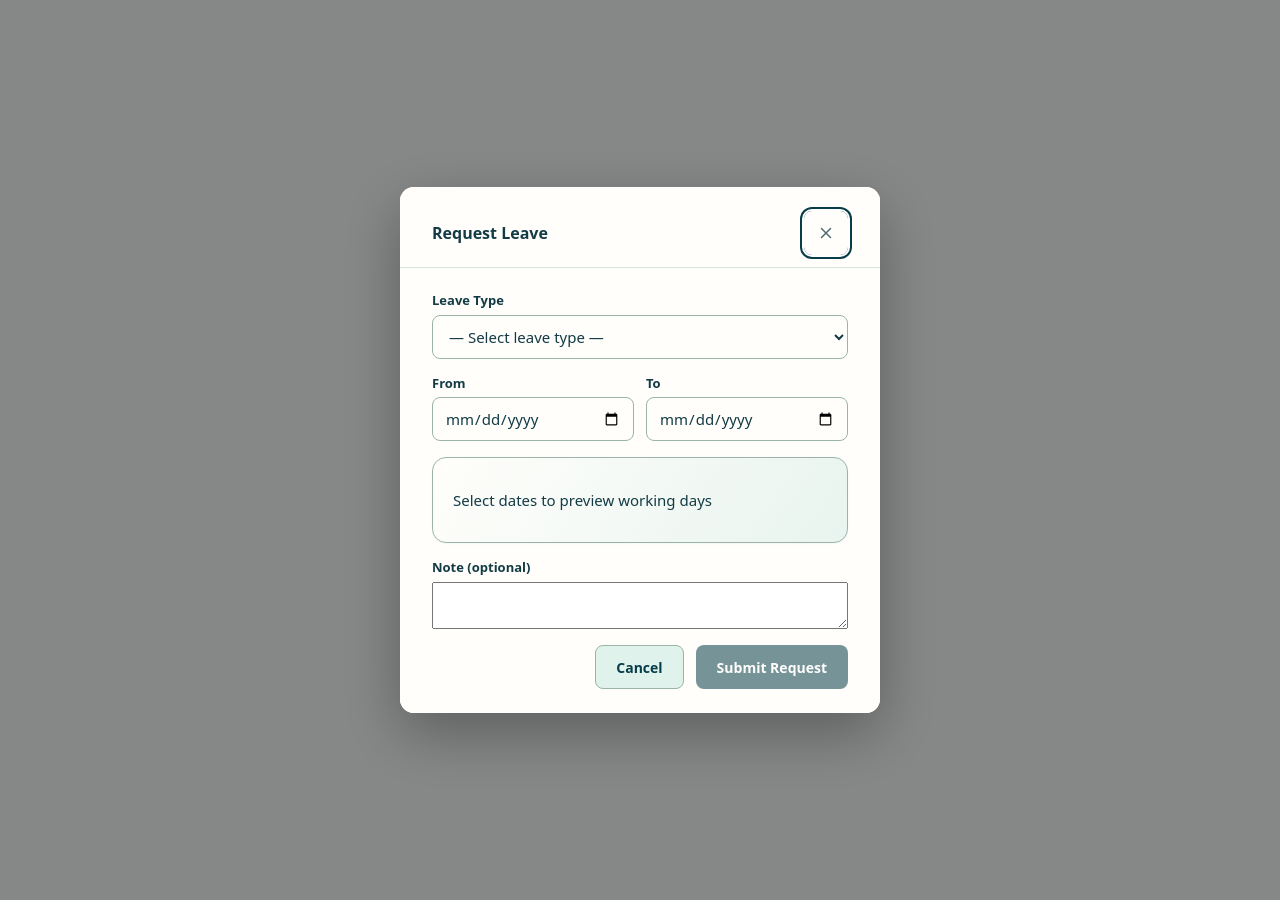
Test: RequestLeaveModal — Story 3.3 › [P1] renders charged-day preview copy and workforce group context
Select "🌴 Annual Leave" in the dropdown labelled "Leave Type" at (640, 336), box [432, 314, 848, 358]
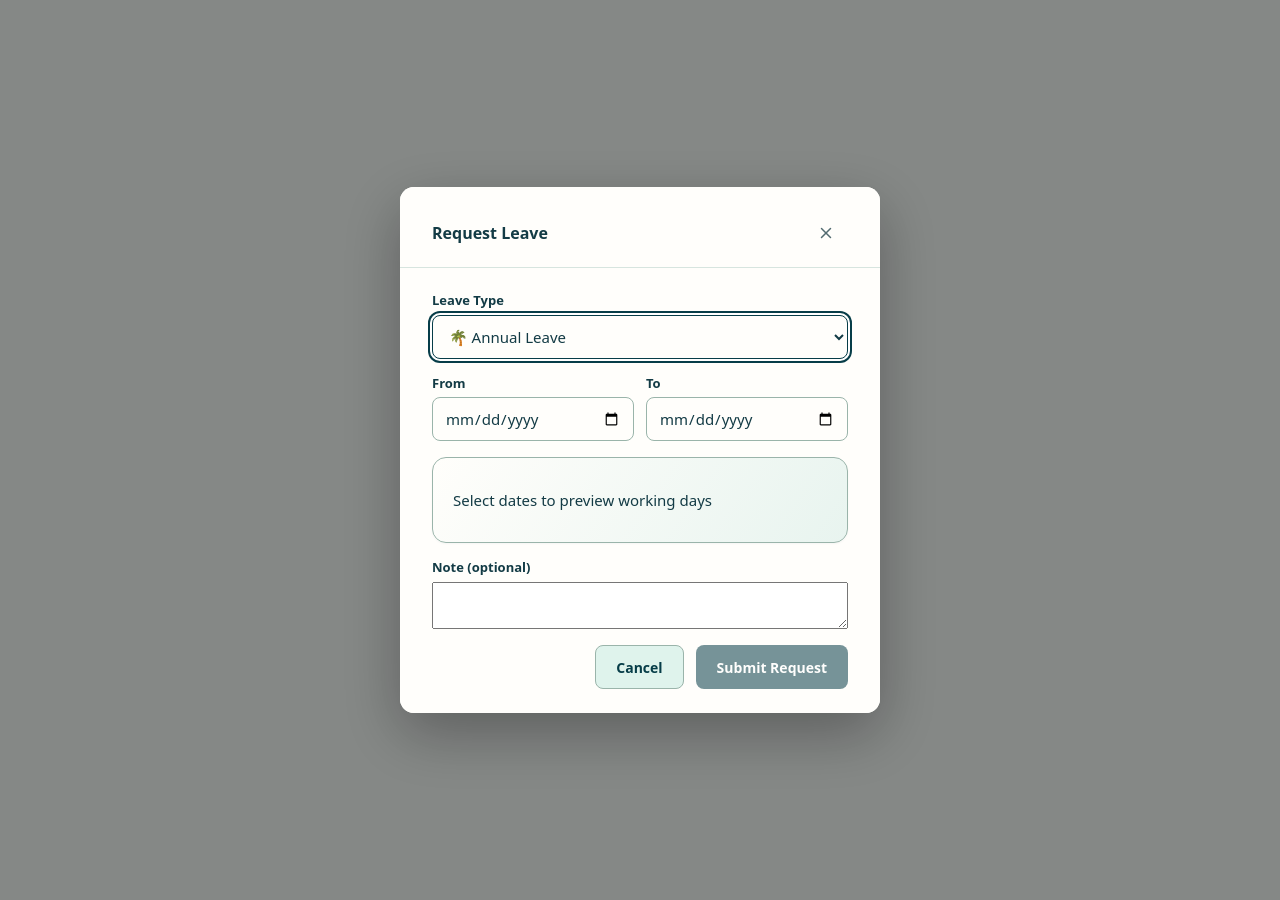
Type "2026-06-01" into the date field with test id "leave-from-date".
click(533, 419); type("2026-06-01")  # box [432, 397, 634, 441]
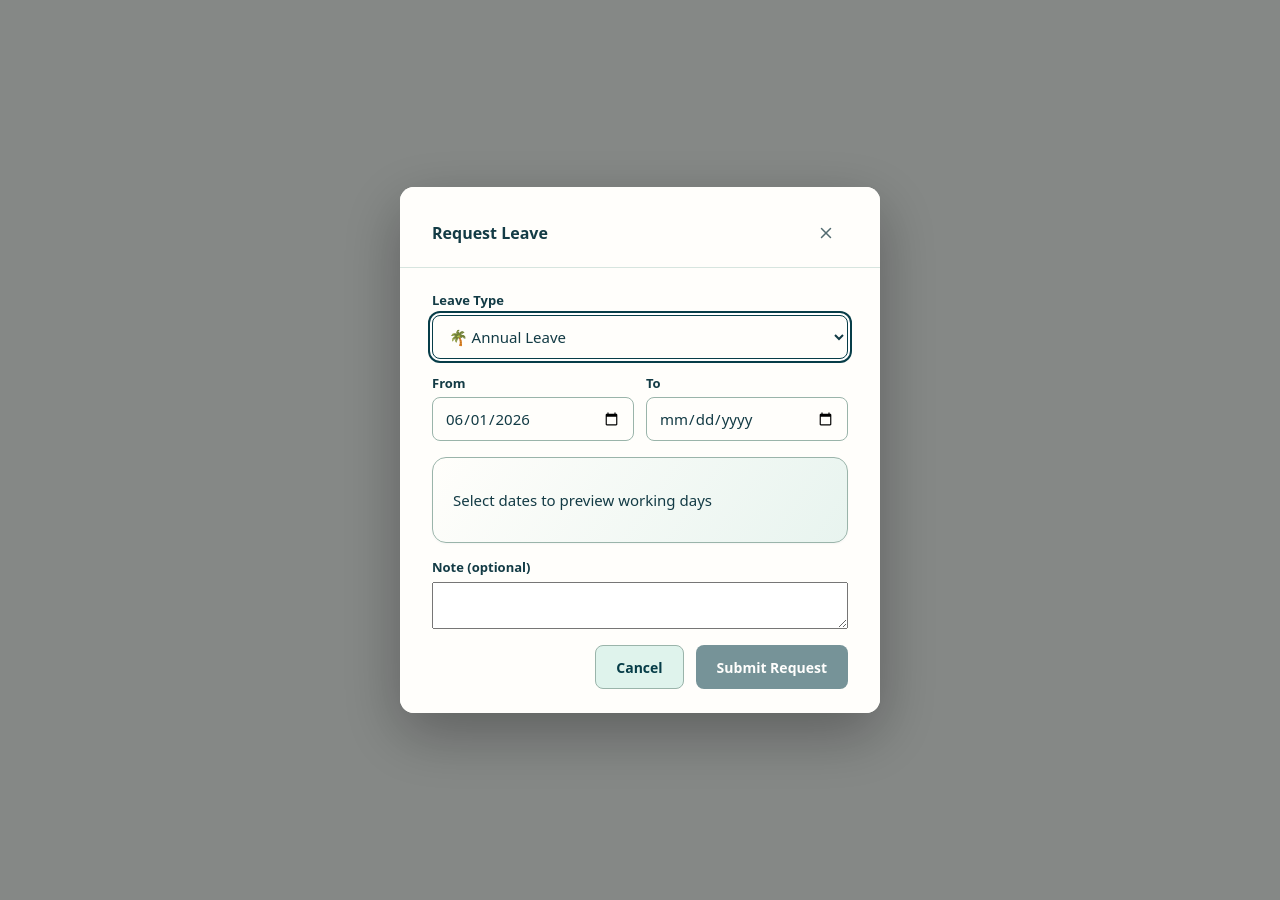
Type "2026-06-07" into the date field with test id "leave-to-date".
click(747, 419); type("2026-06-07")  # box [646, 397, 848, 441]
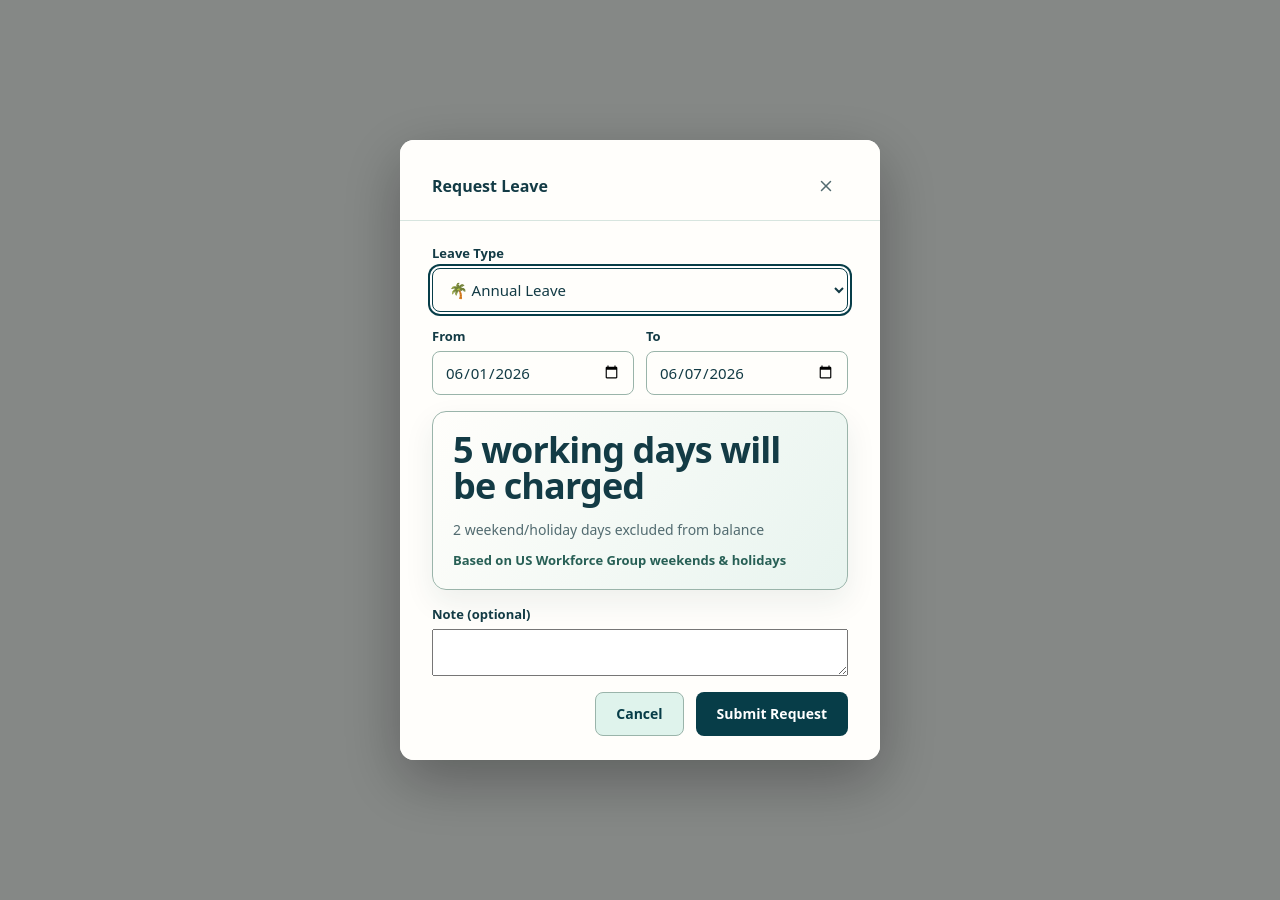
Now the element with test id "working-day-preview" shows "5 working days will be charged", box [453, 425, 780, 510]
Now the text "Based on US Workforce Group weekends & holidays" is shown, box [453, 552, 827, 569]
Now the text "2 weekend/holiday days excluded from balance" is shown, box [453, 520, 764, 539]
